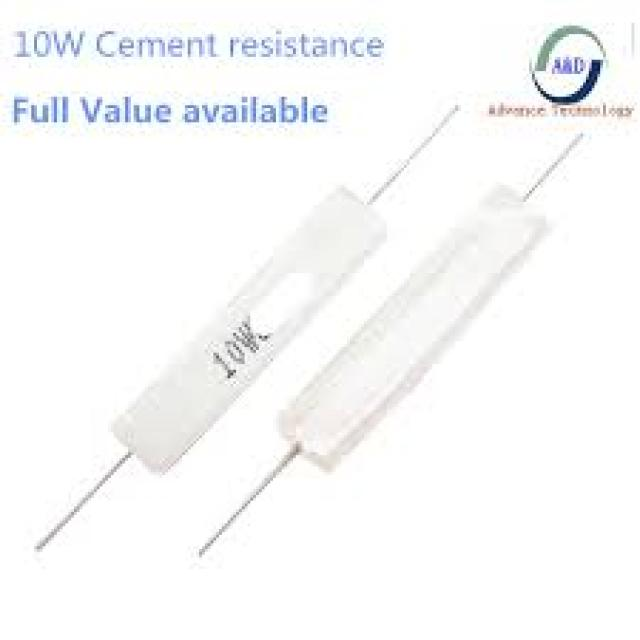Resistor: (120, 190, 386, 472), (296, 194, 544, 463)
